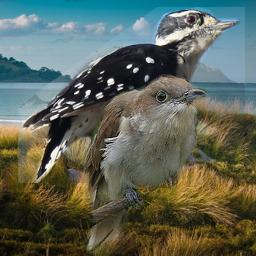Cuckoo: (81, 74, 207, 254)
Woodpecker: (18, 7, 245, 183)
